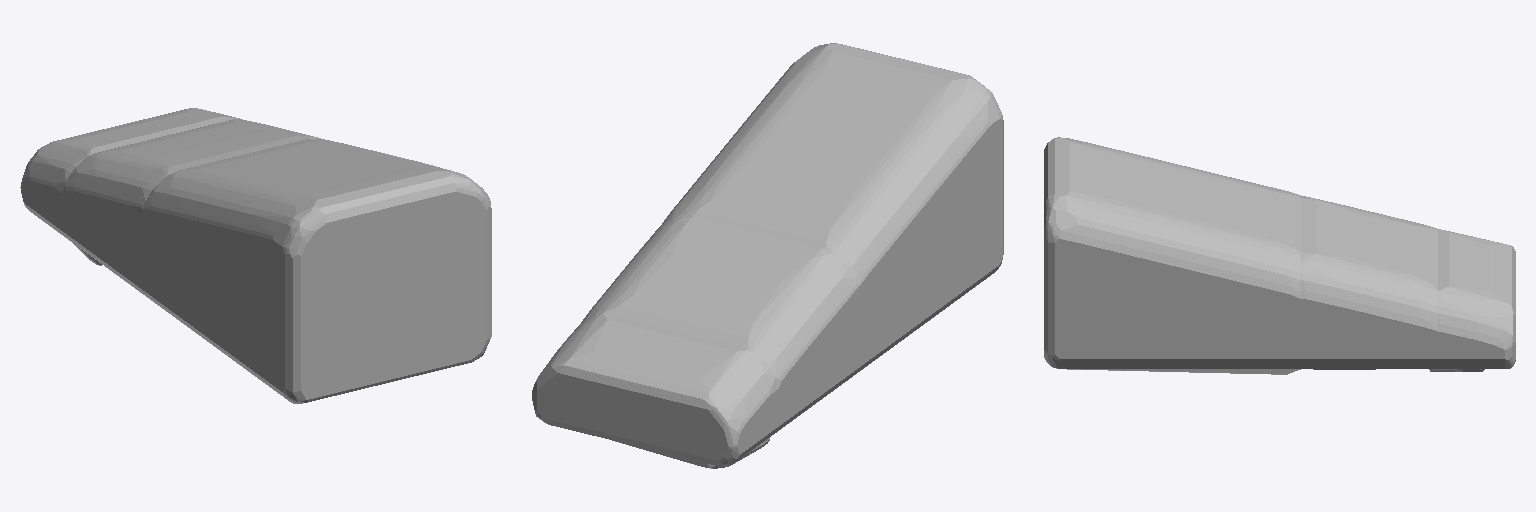
robot.urdf — root:
<robot name="root">
  <link name="link_coacd_convex_piece_0">
    <inertial>
      <origin xyz="0 0 0" rpy="0 0 0"/>
      <inertia ixx="1.03E-01" ixy="-1.53E-04" ixz="5.65E-05" iyy="2.93E-02" iyz="2.95E-03" izz="1.09E-01"/>
    </inertial>
    <visual>
      <origin xyz="0 0 0" rpy="0 0 0"/>
      <geometry>
        <mesh filename="coacd_convex_piece_0.obj" scale="1.0000E+00 1.0000E+00 1.0000E+00"/>
      </geometry>
      <material name="">
        <color rgba="7.50E-01 7.50E-01 7.50E-01 1"/>
      </material>
    </visual>
    <collision>
      <origin xyz="0 0 0" rpy="0 0 0"/>
      <geometry>
        <mesh filename="coacd_convex_piece_0.obj" scale="1.0000E+00 1.0000E+00 1.0000E+00"/>
      </geometry>
    </collision>
  </link>
  <link name="link_coacd_convex_piece_1">
    <inertial>
      <origin xyz="0 0 0" rpy="0 0 0"/>
      <inertia ixx="2.70E-03" ixy="1.53E-04" ixz="-8.57E-05" iyy="7.36E-04" iyz="1.22E-03" izz="2.21E-03"/>
    </inertial>
    <visual>
      <origin xyz="0 0 0" rpy="0 0 0"/>
      <geometry>
        <mesh filename="coacd_convex_piece_1.obj" scale="1.0000E+00 1.0000E+00 1.0000E+00"/>
      </geometry>
      <material name="">
        <color rgba="7.50E-01 7.50E-01 7.50E-01 1"/>
      </material>
    </visual>
    <collision>
      <origin xyz="0 0 0" rpy="0 0 0"/>
      <geometry>
        <mesh filename="coacd_convex_piece_1.obj" scale="1.0000E+00 1.0000E+00 1.0000E+00"/>
      </geometry>
    </collision>
  </link>
  <joint name="link_coacd_convex_piece_1_joint" type="fixed">
    <origin xyz="0 0 0" rpy="0 0 0"/>
    <parent link="link_coacd_convex_piece_0"/>
    <child link="link_coacd_convex_piece_1"/>
  </joint>
  <link name="link_coacd_convex_piece_2">
    <inertial>
      <origin xyz="0 0 0" rpy="0 0 0"/>
      <inertia ixx="1.61E-02" ixy="1.42E-04" ixz="-1.72E-05" iyy="8.82E-03" iyz="6.43E-03" izz="1.91E-02"/>
    </inertial>
    <visual>
      <origin xyz="0 0 0" rpy="0 0 0"/>
      <geometry>
        <mesh filename="coacd_convex_piece_2.obj" scale="1.0000E+00 1.0000E+00 1.0000E+00"/>
      </geometry>
      <material name="">
        <color rgba="7.50E-01 7.50E-01 7.50E-01 1"/>
      </material>
    </visual>
    <collision>
      <origin xyz="0 0 0" rpy="0 0 0"/>
      <geometry>
        <mesh filename="coacd_convex_piece_2.obj" scale="1.0000E+00 1.0000E+00 1.0000E+00"/>
      </geometry>
    </collision>
  </link>
  <joint name="link_coacd_convex_piece_2_joint" type="fixed">
    <origin xyz="0 0 0" rpy="0 0 0"/>
    <parent link="link_coacd_convex_piece_1"/>
    <child link="link_coacd_convex_piece_2"/>
  </joint>
  <link name="link_coacd_convex_piece_3">
    <inertial>
      <origin xyz="0 0 0" rpy="0 0 0"/>
      <inertia ixx="1.06E-03" ixy="-2.71E-06" ixz="9.85E-06" iyy="8.76E-04" iyz="6.14E-04" izz="3.82E-04"/>
    </inertial>
    <visual>
      <origin xyz="0 0 0" rpy="0 0 0"/>
      <geometry>
        <mesh filename="coacd_convex_piece_3.obj" scale="1.0000E+00 1.0000E+00 1.0000E+00"/>
      </geometry>
      <material name="">
        <color rgba="7.50E-01 7.50E-01 7.50E-01 1"/>
      </material>
    </visual>
    <collision>
      <origin xyz="0 0 0" rpy="0 0 0"/>
      <geometry>
        <mesh filename="coacd_convex_piece_3.obj" scale="1.0000E+00 1.0000E+00 1.0000E+00"/>
      </geometry>
    </collision>
  </link>
  <joint name="link_coacd_convex_piece_3_joint" type="fixed">
    <origin xyz="0 0 0" rpy="0 0 0"/>
    <parent link="link_coacd_convex_piece_2"/>
    <child link="link_coacd_convex_piece_3"/>
  </joint>
  <link name="link_coacd_convex_piece_4">
    <inertial>
      <origin xyz="0 0 0" rpy="0 0 0"/>
      <inertia ixx="1.24E-03" ixy="4.36E-05" ixz="-2.33E-05" iyy="3.02E-04" iyz="5.28E-04" izz="1.08E-03"/>
    </inertial>
    <visual>
      <origin xyz="0 0 0" rpy="0 0 0"/>
      <geometry>
        <mesh filename="coacd_convex_piece_4.obj" scale="1.0000E+00 1.0000E+00 1.0000E+00"/>
      </geometry>
      <material name="">
        <color rgba="7.50E-01 7.50E-01 7.50E-01 1"/>
      </material>
    </visual>
    <collision>
      <origin xyz="0 0 0" rpy="0 0 0"/>
      <geometry>
        <mesh filename="coacd_convex_piece_4.obj" scale="1.0000E+00 1.0000E+00 1.0000E+00"/>
      </geometry>
    </collision>
  </link>
  <joint name="link_coacd_convex_piece_4_joint" type="fixed">
    <origin xyz="0 0 0" rpy="0 0 0"/>
    <parent link="link_coacd_convex_piece_3"/>
    <child link="link_coacd_convex_piece_4"/>
  </joint>
  <link name="link_coacd_convex_piece_5">
    <inertial>
      <origin xyz="0 0 0" rpy="0 0 0"/>
      <inertia ixx="2.75E-02" ixy="1.47E-04" ixz="-2.16E-05" iyy="3.77E-03" iyz="6.73E-03" izz="2.82E-02"/>
    </inertial>
    <visual>
      <origin xyz="0 0 0" rpy="0 0 0"/>
      <geometry>
        <mesh filename="coacd_convex_piece_5.obj" scale="1.0000E+00 1.0000E+00 1.0000E+00"/>
      </geometry>
      <material name="">
        <color rgba="7.50E-01 7.50E-01 7.50E-01 1"/>
      </material>
    </visual>
    <collision>
      <origin xyz="0 0 0" rpy="0 0 0"/>
      <geometry>
        <mesh filename="coacd_convex_piece_5.obj" scale="1.0000E+00 1.0000E+00 1.0000E+00"/>
      </geometry>
    </collision>
  </link>
  <joint name="link_coacd_convex_piece_5_joint" type="fixed">
    <origin xyz="0 0 0" rpy="0 0 0"/>
    <parent link="link_coacd_convex_piece_4"/>
    <child link="link_coacd_convex_piece_5"/>
  </joint>
</robot>

--- Facts derived from the render (not from the file) ---
Views: 3 orthographic renders of the robot side by side, from view 1: azimuth 30°, elevation 25°; view 2: azimuth 150°, elevation 25°; view 3: azimuth 270°, elevation 25°.
Robot: root — 6 links, 5 joints (5 fixed); root link link_coacd_convex_piece_0; default pose: all joints at 0.
Visible links, largest first — view 1: link_coacd_convex_piece_0, link_coacd_convex_piece_2, link_coacd_convex_piece_5; view 2: link_coacd_convex_piece_0, link_coacd_convex_piece_2, link_coacd_convex_piece_5; view 3: link_coacd_convex_piece_0, link_coacd_convex_piece_2, link_coacd_convex_piece_5.
Boxes of the visible links, bbox=[...] form: link_coacd_convex_piece_0: bbox=[142, 138, 491, 403]; link_coacd_convex_piece_2: bbox=[62, 119, 320, 297]; link_coacd_convex_piece_5: bbox=[20, 108, 242, 240]; link_coacd_convex_piece_0: bbox=[662, 43, 1003, 374]; link_coacd_convex_piece_2: bbox=[581, 217, 858, 434]; link_coacd_convex_piece_5: bbox=[532, 313, 778, 466]; link_coacd_convex_piece_0: bbox=[1044, 137, 1300, 374]; link_coacd_convex_piece_2: bbox=[1301, 196, 1437, 368]; link_coacd_convex_piece_5: bbox=[1438, 229, 1515, 368].
Size in the robot's own frame: 0.7669 by 1.76 by 0.7668 metres.
Meshes: 6 distinct files referenced, 6 mesh visuals loaded (6 OBJ).